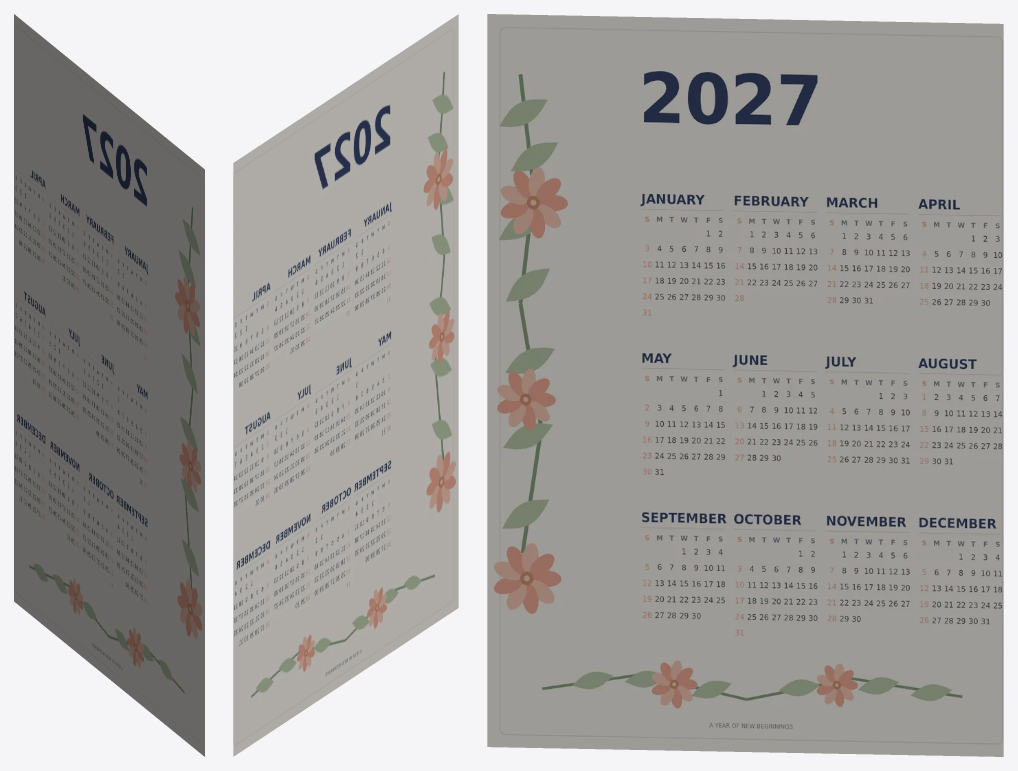
File: 2027-BHoFt9qY.glb
3 renders of one model, left to right at view 1: azimuth 30°, elevation 25°; view 2: azimuth 150°, elevation 25°; view 3: azimuth 270°, elevation 25°, orthographic. The views are drawn at different scales.
Parts seen in each view (by area): view 1: StudyShelf_2465; view 2: StudyShelf_2465; view 3: StudyShelf_2465.
Part boxes in pixels (bbox=[...]): StudyShelf_2465: bbox=[14, 14, 204, 756]; StudyShelf_2465: bbox=[233, 14, 458, 756]; StudyShelf_2465: bbox=[487, 14, 1003, 756].
Size of the model in its own units: 2.68 by 92.56 by 59.09.
Materials: 1 (1 with a texture image).
